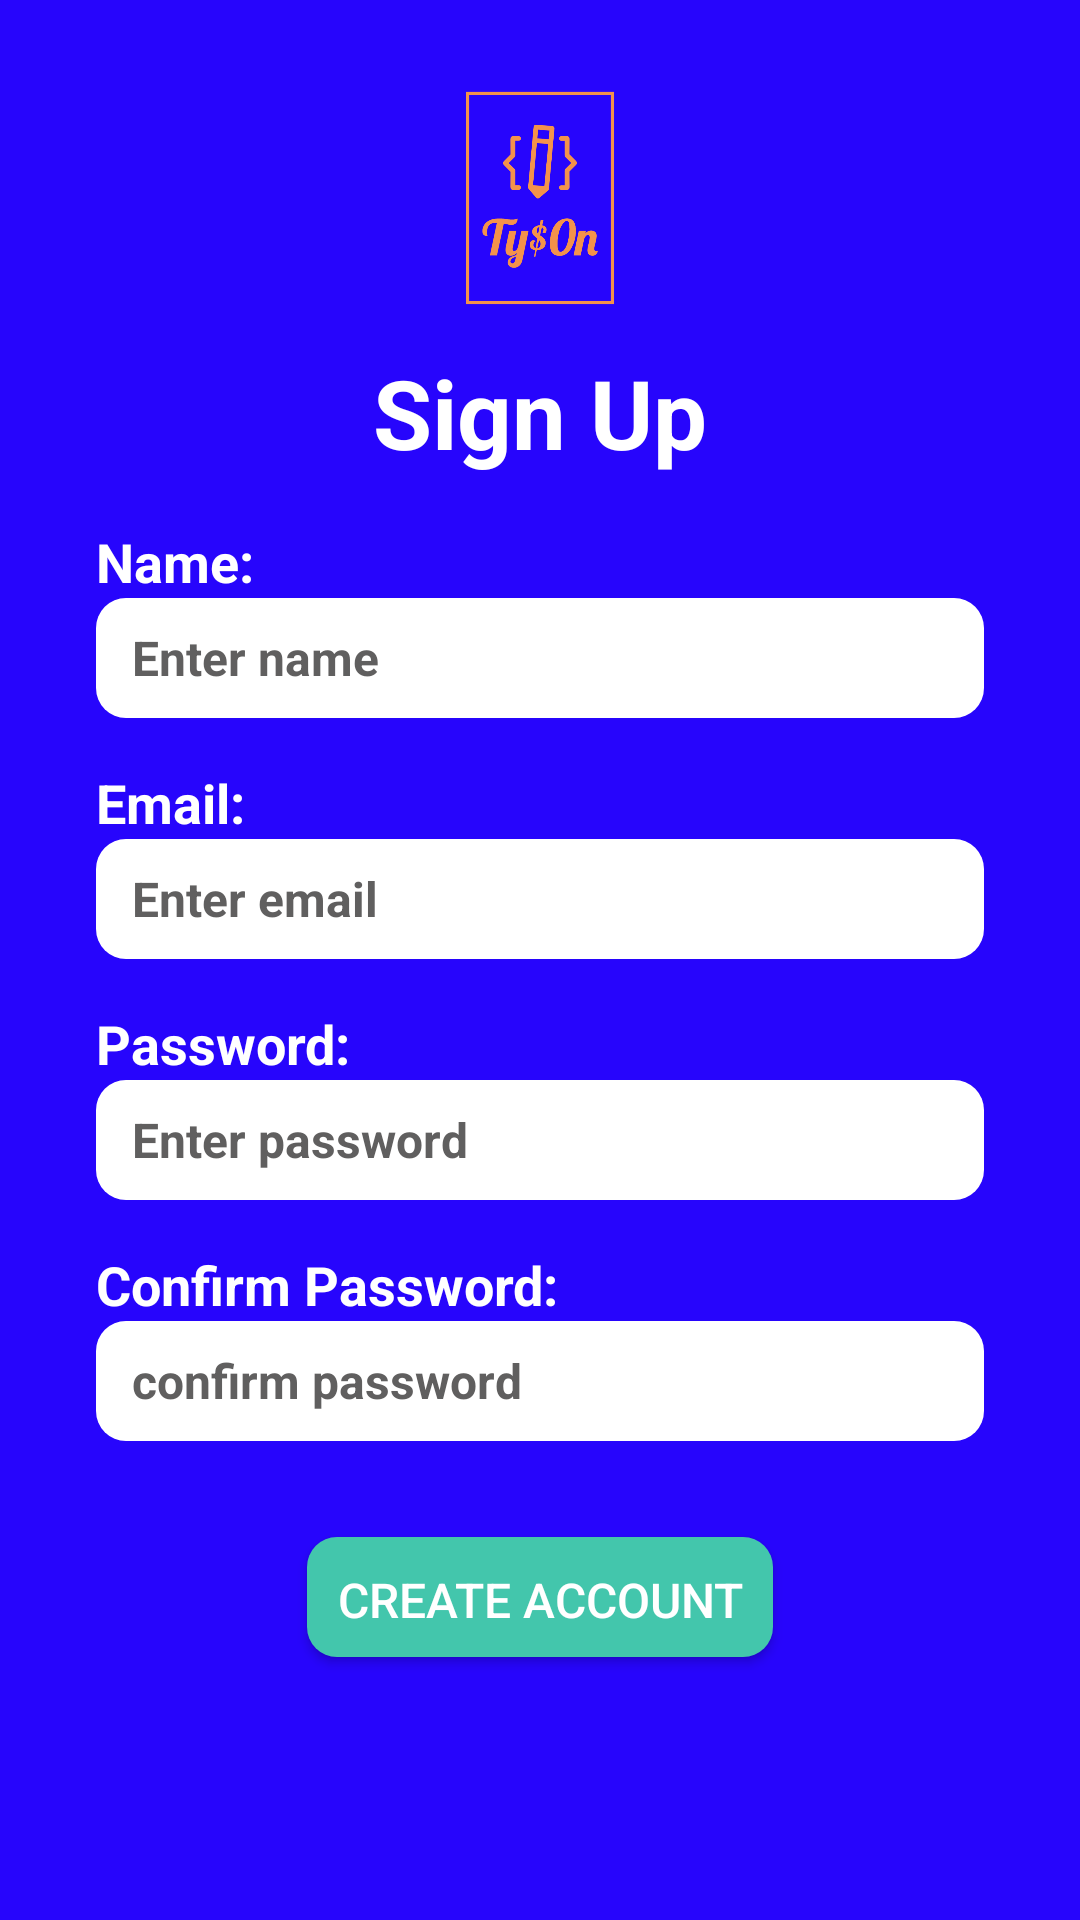

Locate icon controls on the screen. Image size 1080px x 1920px, boxes as (x1, y1, x2, y2).
log: (466, 92, 614, 304)
